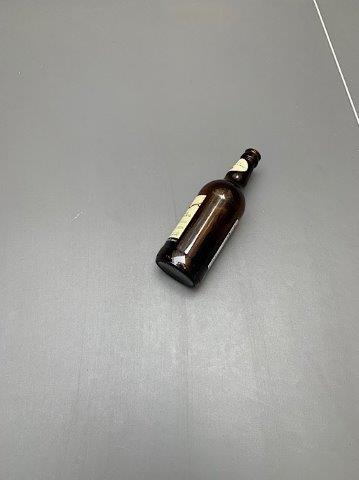botolkaca: (158, 149, 260, 288)
